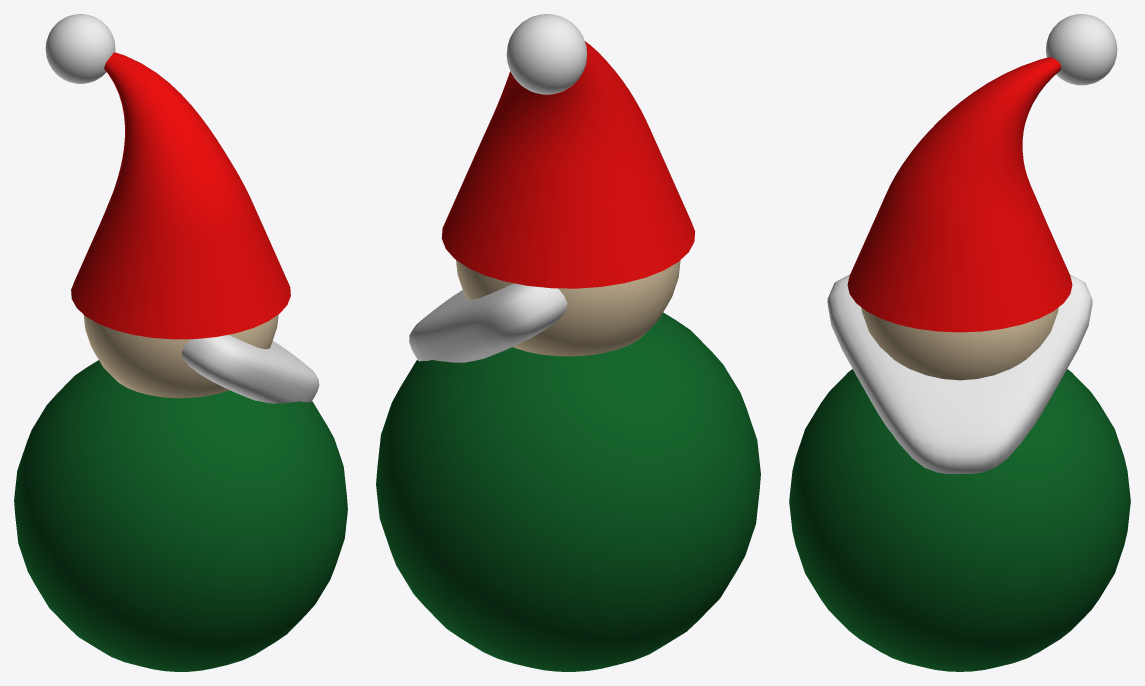
File: gnome.fbx
The picture shows the model from 3 angles, left to right: view 1: azimuth 30°, elevation 25°; view 2: azimuth 150°, elevation 25°; view 3: azimuth 270°, elevation 25°; orthographic projection. The views are drawn at different scales.
Parts seen in each view (by area): view 1: Gnome, Hat, Face, Beard, HatBall; view 2: Gnome, Hat, Face, Beard, HatBall; view 3: Gnome, Hat, Beard, Face, HatBall.
Boxes of the visible parts, x1,y1,x2,y2 form: Gnome: [14, 360, 347, 671]; Hat: [71, 52, 290, 339]; Face: [83, 314, 278, 398]; Beard: [181, 335, 319, 403]; HatBall: [45, 14, 115, 83]; Gnome: [376, 312, 760, 671]; Hat: [441, 41, 695, 288]; Face: [456, 260, 680, 356]; Beard: [409, 283, 567, 362]; HatBall: [506, 14, 587, 94]; Gnome: [789, 369, 1130, 671]; Hat: [847, 57, 1072, 332]; Beard: [827, 274, 1092, 473]; Face: [861, 307, 1058, 380]; HatBall: [1046, 14, 1117, 85].
Bounding box in the file's own units: 68.04 × 136 × 68.04.
